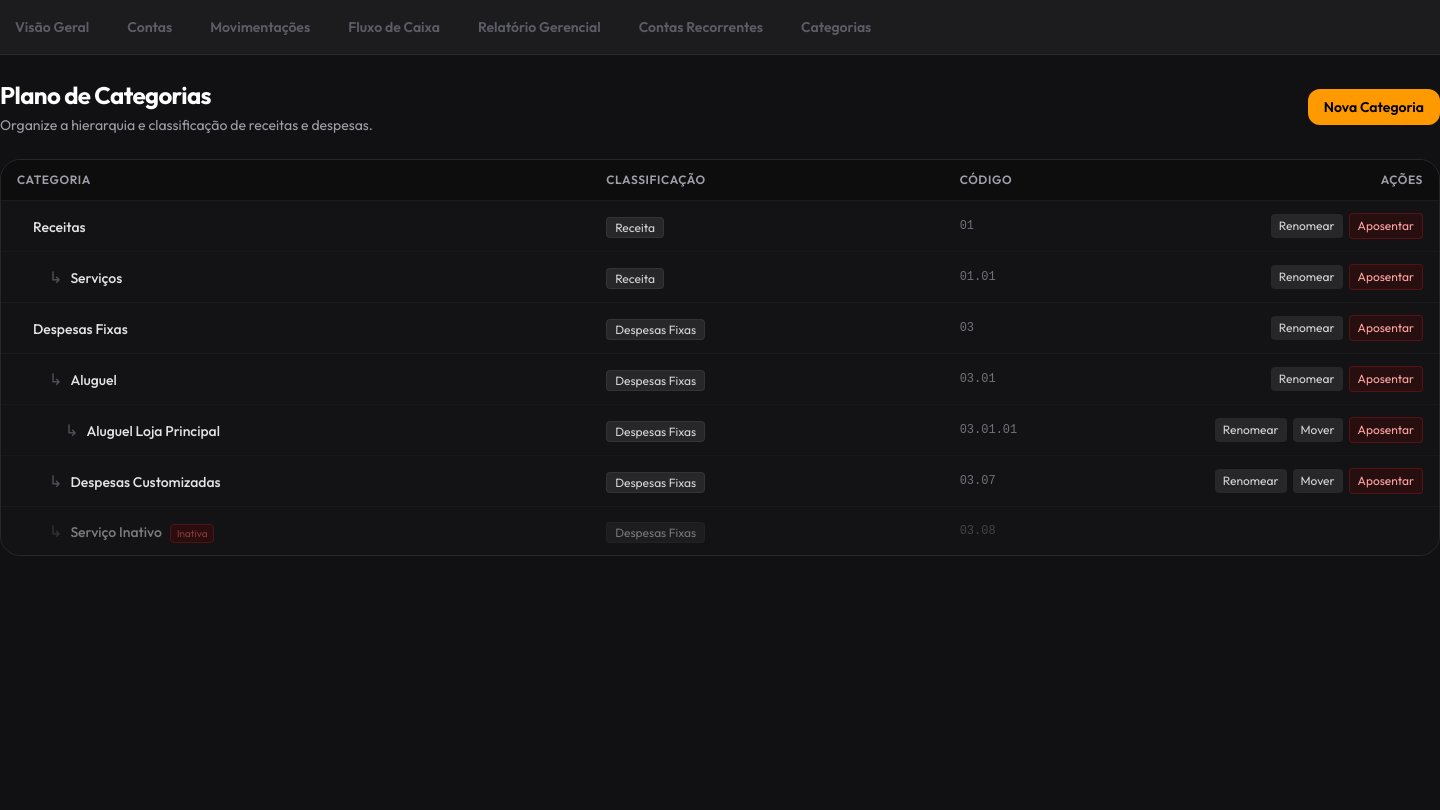
Test case: CategoriasPage — UI Suite › 7. aposentadoria com exigência de substituição abre seleção de substituta
Expected: the text "Aluguel" is shown, [70, 371, 117, 389]
Click the button "Aposentar" in the row of "Serviços".
click(1386, 277)  # box [1349, 264, 1423, 290]
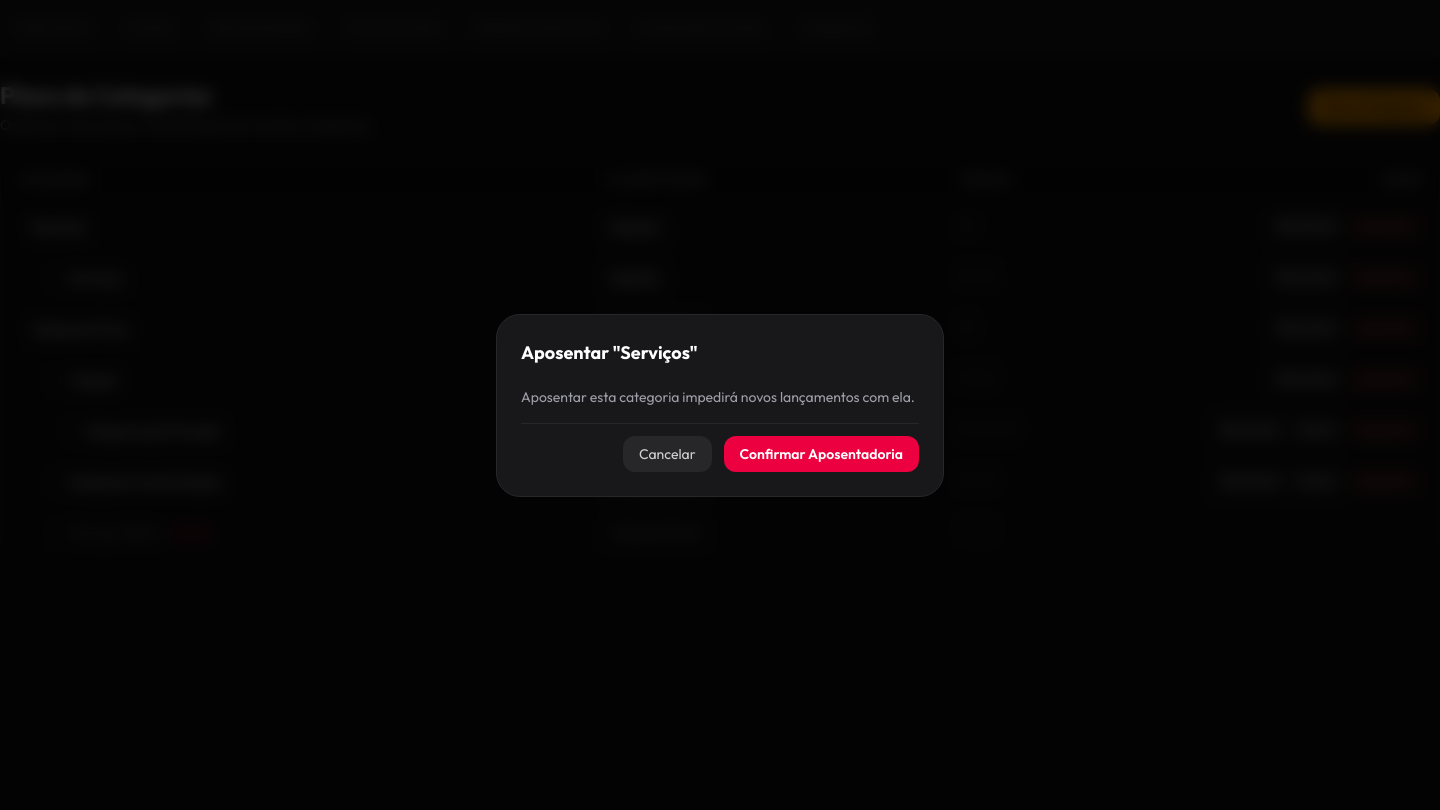
Click the button "Confirmar Aposentadoria".
click(821, 454)  # box [724, 436, 919, 472]
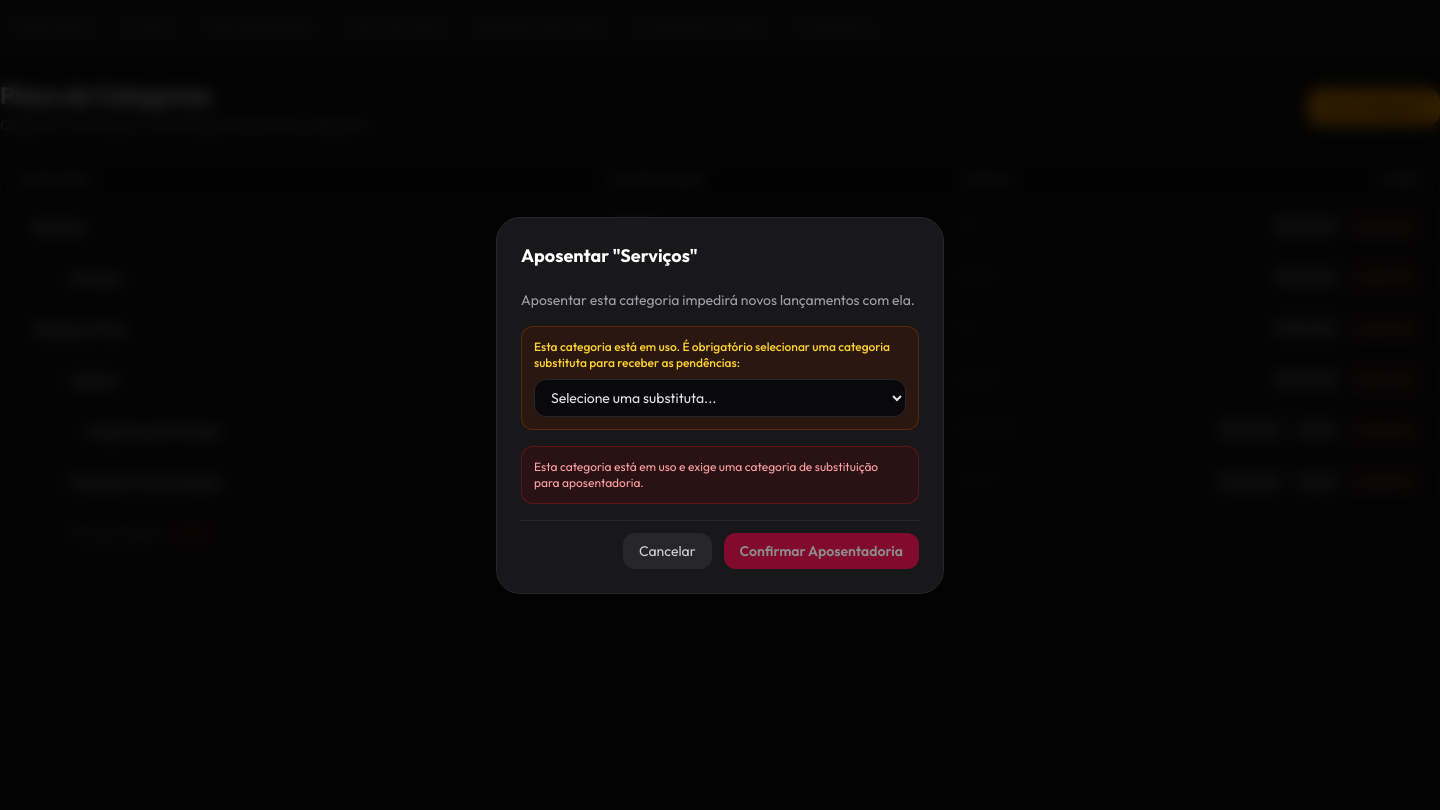
Expected: the text "exige uma categoria de substituição" is shown, [534, 458, 878, 490]
